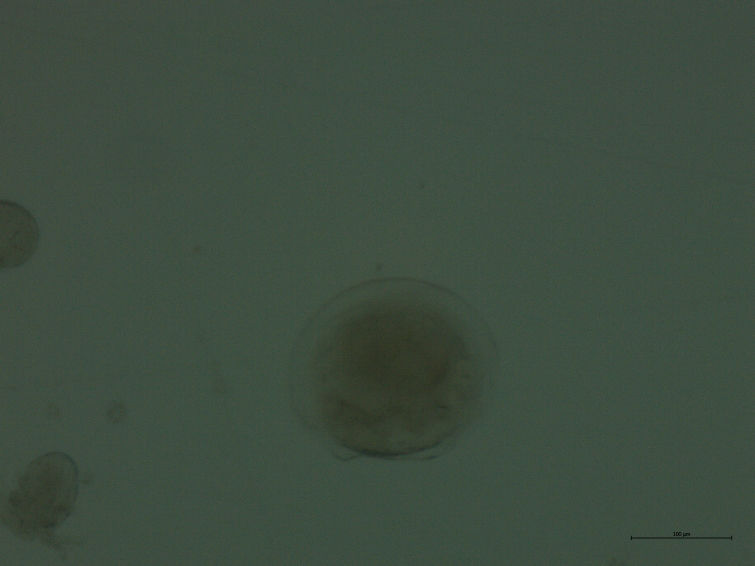oyster: (272, 271, 516, 476)
